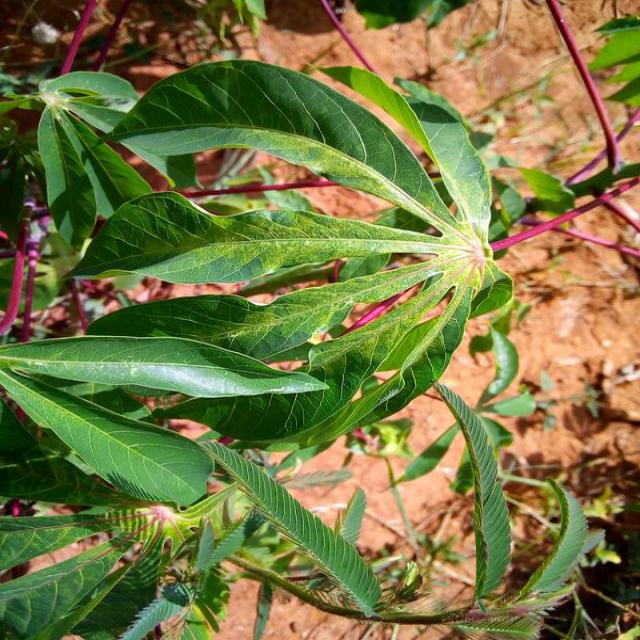cassava leaf: (1, 56, 518, 627), (103, 56, 459, 239)
